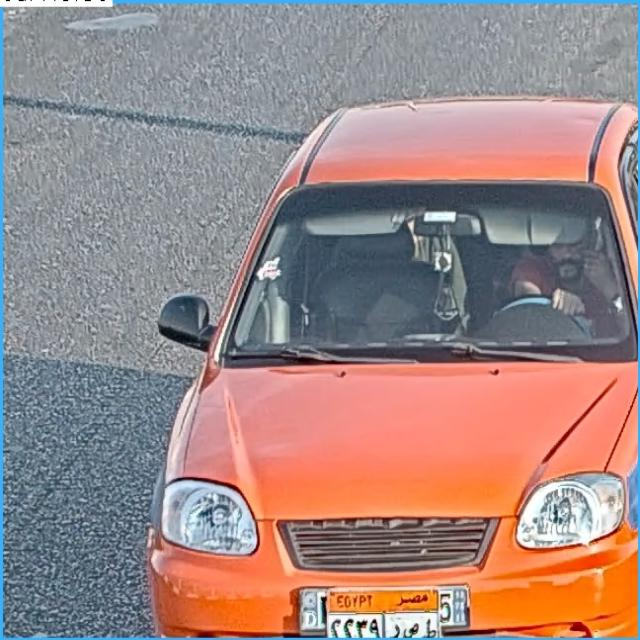windshield: (233, 189, 637, 355)
